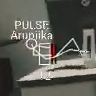hacks_1: (10, 20, 90, 65)
